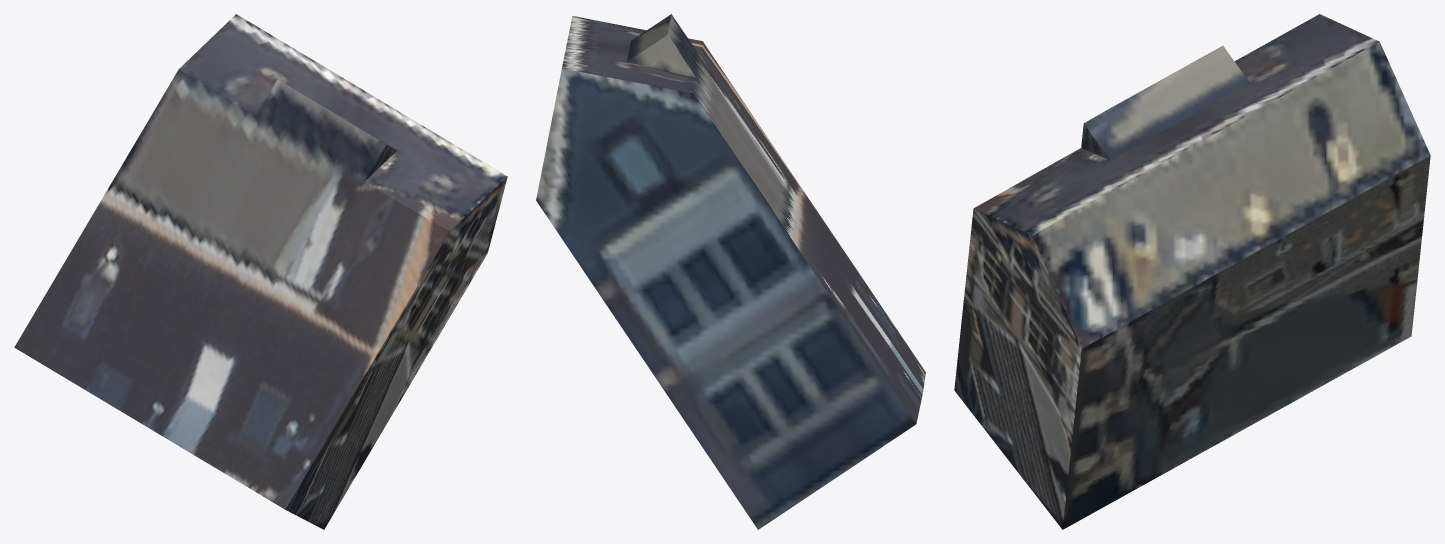
3 renders of one model, left to right at view 1: azimuth 30°, elevation 25°; view 2: azimuth 150°, elevation 25°; view 3: azimuth 270°, elevation 25°, orthographic. The views are drawn at different scales.
Visible parts, largest first — view 1: BAG_0599100000650075 (×4); view 2: BAG_0599100000650075 (×4); view 3: BAG_0599100000650075 (×4).
Boxes of the visible parts, bbox=[...] form: BAG_0599100000650075 (×4): bbox=[14, 14, 507, 529]; BAG_0599100000650075 (×4): bbox=[536, 14, 925, 529]; BAG_0599100000650075 (×4): bbox=[954, 14, 1430, 529].
Size of the model in its own units: 14.5 by 14.84 by 12.5.
Materials: 1 (1 with a texture image).
